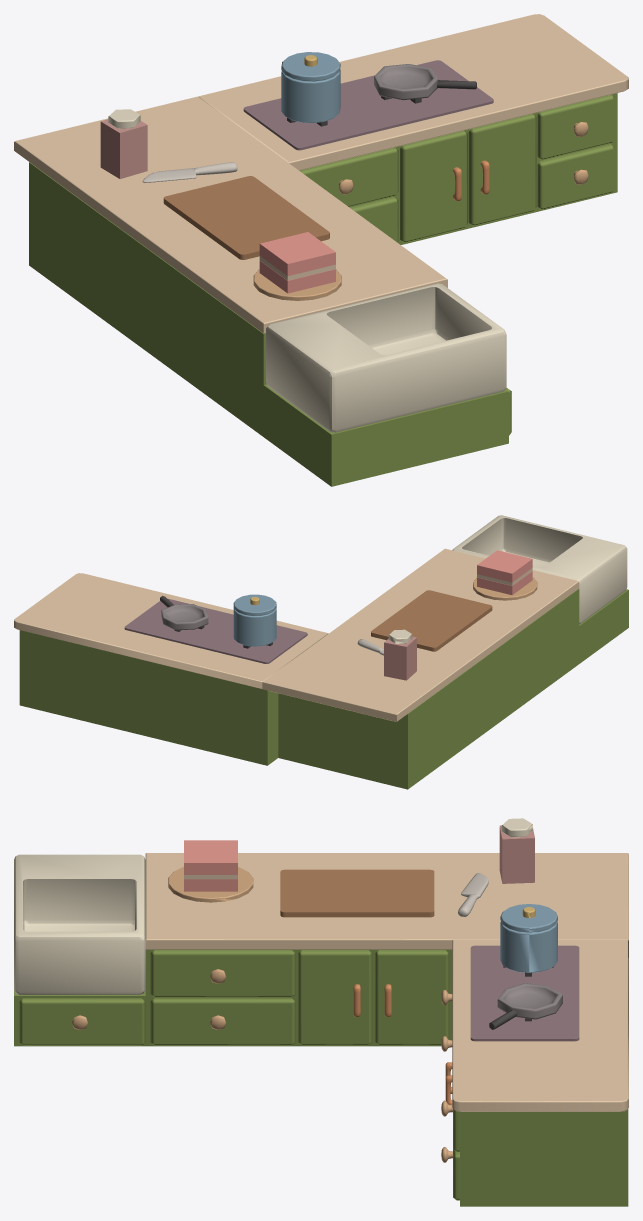
Rendered from kitchen-cabinet-transformed.glb.
3 renders of one model, top to bottom at view 1: azimuth 30°, elevation 25°; view 2: azimuth 150°, elevation 25°; view 3: azimuth 270°, elevation 25°, orthographic. The views are drawn at different scales.
Parts seen in each view (by area): view 1: Rectangle 4.002, Boolean, Cube 56, Rectangle 4.003, Cube 44, Rectangle 6.002, Rectangle 6.003, Cube 49.001, Cube 48.001, Cube 50, Cube 50.001, Cube 46.001 (+9 smaller); view 2: Cube 56, Cube 44.001, Rectangle 4.002, Rectangle 4.003, Boolean, Rectangle 6.002, Rectangle 6.003, Cube 44, Merged Geometry.028, Cylinder 31, Cube 4.006, Cube 7.005 (+2 smaller); view 3: Rectangle 4.002, Rectangle 4.003, Boolean, Cube 44.001, Rectangle 6.003, Rectangle 6.002, Cube 48, Cube 49, Cube 47, Cube 46, Cube 55, Cube 56 (+10 smaller).
Part boxes in pixels (x1,y1,x2,y2): Rectangle 4.002: [14, 96, 447, 333]; Boolean: [266, 283, 506, 432]; Cube 56: [29, 162, 266, 436]; Rectangle 4.003: [198, 14, 628, 170]; Cube 44: [263, 384, 508, 486]; Rectangle 6.002: [243, 60, 493, 150]; Rectangle 6.003: [163, 176, 329, 259]; Cube 49.001: [468, 114, 536, 225]; Cube 48.001: [400, 130, 467, 242]; Cube 50: [537, 144, 613, 209]; Cube 50.001: [537, 94, 613, 160]; Cube 46.001: [299, 147, 398, 206]; Cube 56: [278, 589, 579, 789]; Cube 44.001: [19, 630, 278, 765]; Rectangle 4.002: [262, 548, 579, 721]; Rectangle 4.003: [14, 573, 328, 688]; Boolean: [452, 515, 627, 623]; Rectangle 6.002: [124, 598, 307, 663]; Rectangle 6.003: [371, 590, 492, 651]; Cube 44: [579, 589, 628, 663]; Merged Geometry.028: [477, 550, 532, 594]; Cylinder 31: [233, 607, 276, 646]; Cube 4.006: [384, 636, 416, 680]; Cube 7.005: [161, 604, 208, 630]; Rectangle 4.002: [145, 853, 628, 949]; Rectangle 4.003: [452, 939, 628, 1111]; Boolean: [14, 854, 145, 994]; Cube 44.001: [460, 1109, 628, 1206]; Rectangle 6.003: [280, 869, 434, 917]; Rectangle 6.002: [470, 945, 579, 1041]; Cube 48: [298, 950, 372, 1045]; Cube 49: [375, 950, 449, 1045]; Cube 47: [150, 998, 295, 1045]; Cube 46: [150, 950, 295, 997]; Cube 55: [19, 998, 145, 1045]; Cube 56: [145, 949, 452, 1046].
Bounding box in the file's own units: 4.4 × 1.4 × 4.59.
